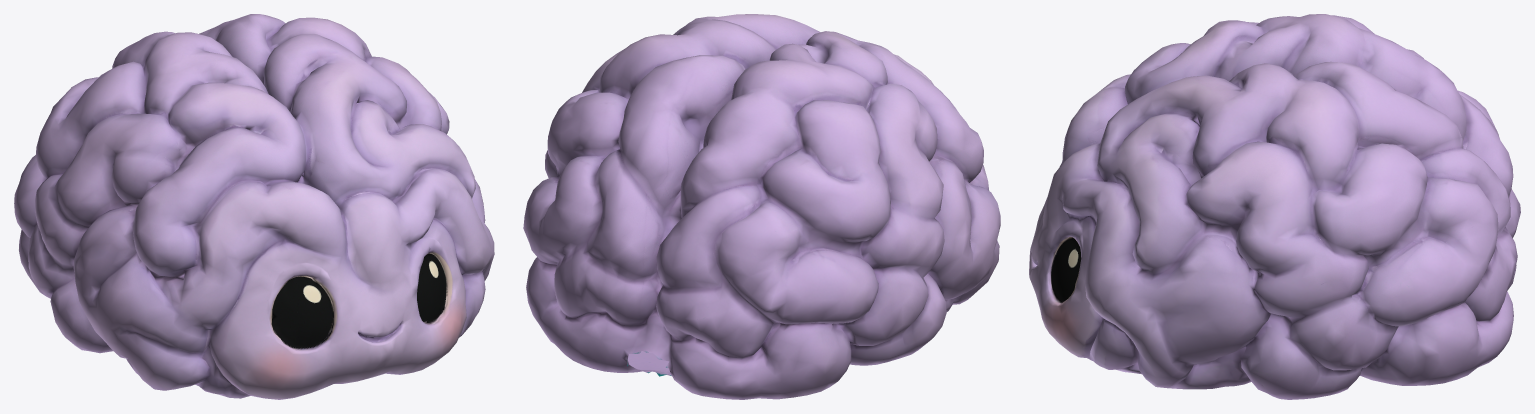
File: byte-body-v2.glb
3 views of the same model, side by side, from view 1: azimuth 30°, elevation 25°; view 2: azimuth 150°, elevation 25°; view 3: azimuth 270°, elevation 25° (orthographic). The views are drawn at different scales.
Parts seen in each view (by area): view 1: ByteBody.001; view 2: ByteBody.001; view 3: ByteBody.001.
Boxes of the visible parts, x1,y1,x2,y2 form: ByteBody.001: (14,14,494,399); ByteBody.001: (523,14,1000,399); ByteBody.001: (1029,14,1520,399).
Bounding box in the file's own units: 0.7559 × 0.5088 × 0.8232.
2 materials, 1 textured.
